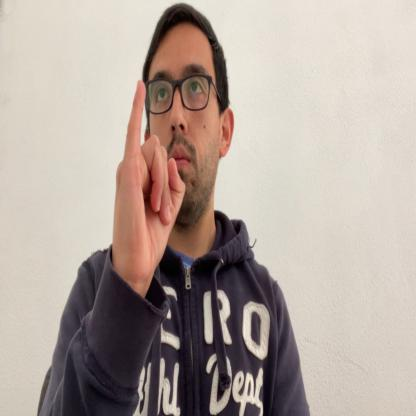I: (113, 79, 186, 283)
